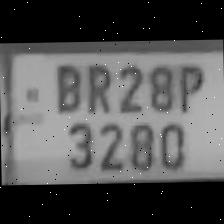0: (154, 117, 188, 172)
2: (111, 59, 144, 114), (93, 118, 124, 172)
3: (60, 115, 94, 172)
8: (143, 60, 176, 114), (125, 118, 154, 172)
B: (48, 57, 82, 112)
P: (170, 58, 206, 115)
R: (81, 59, 112, 114)
